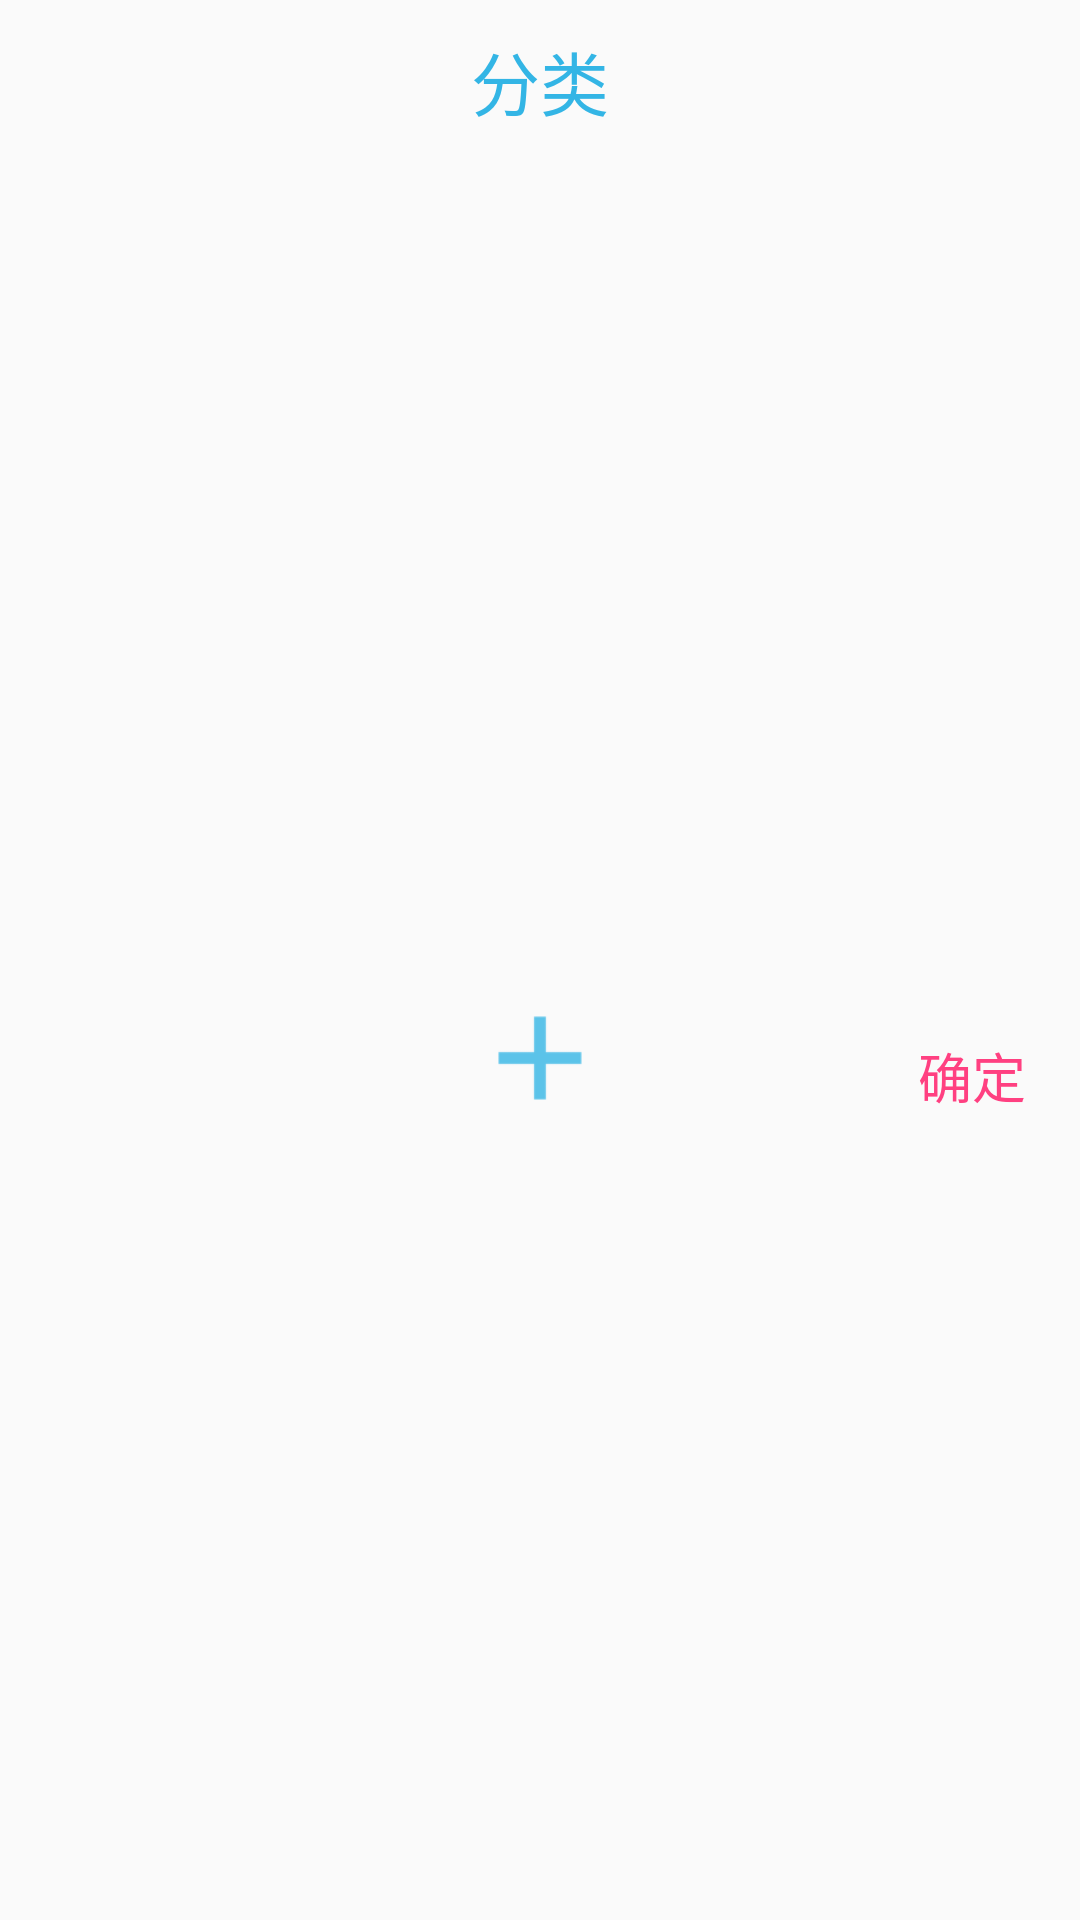

Icon click points for this 1080px×1920px phone screenshot, format (x,y):
add: (540,1058)
